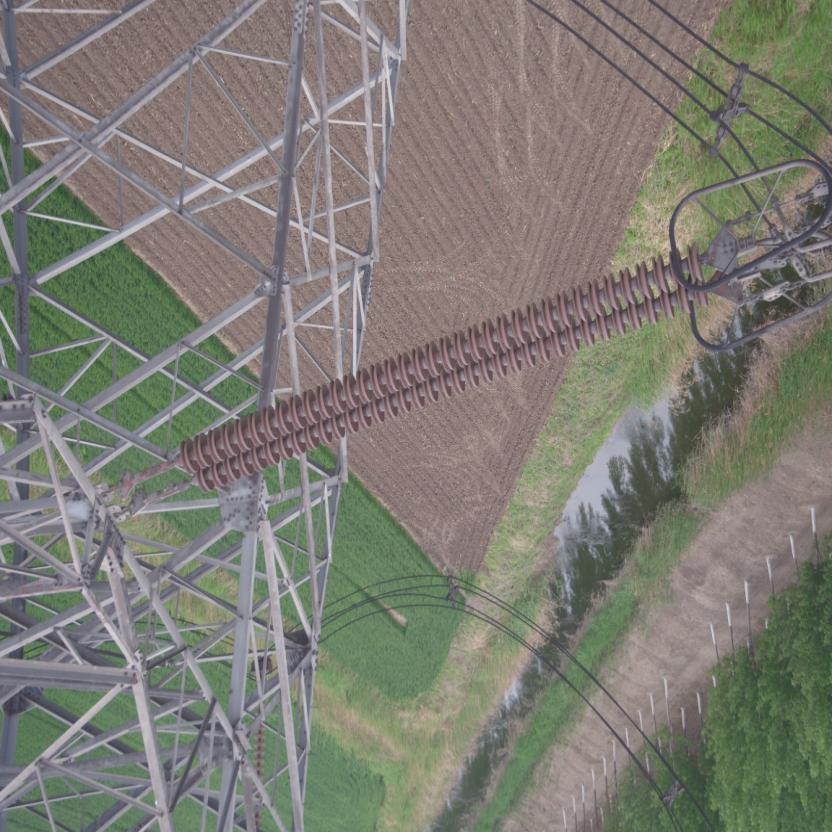insulator: (157, 239, 723, 501)
